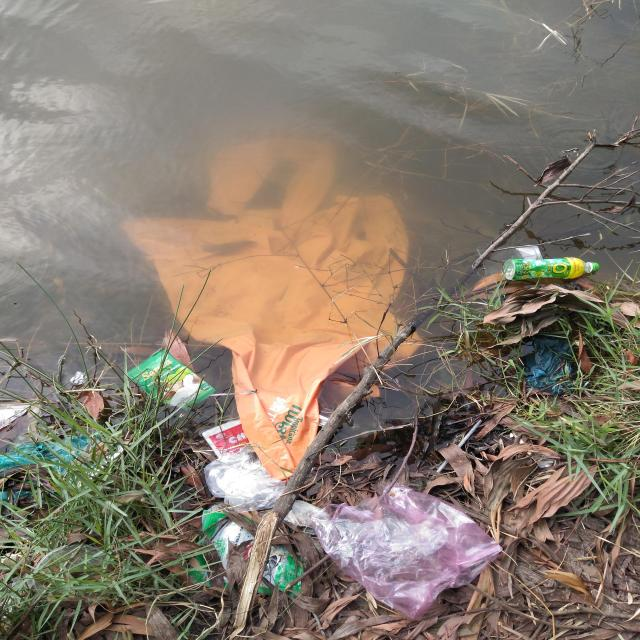litter: (125, 134, 424, 480), (211, 460, 503, 621), (499, 257, 599, 277)
